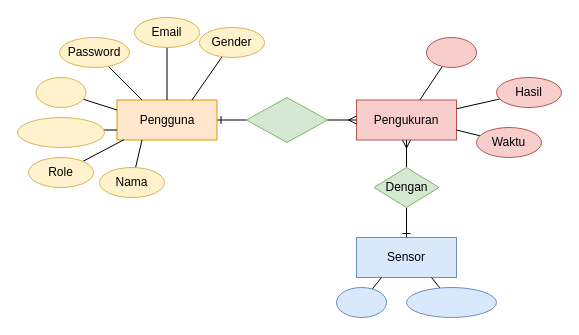
The diagram is 579 pixels wide and 335 high, and some of its shapes have lost their labels. The shapes that lost their labels are listed below. From the top down, each one's centre as x and y in pixels, then its label:
(x=451, y=52): idP
(x=60, y=92): id
(x=60, y=132): Tanggal_Lahir
(x=287, y=119): Mempunyai
(x=361, y=302): idS
(x=451, y=302): Nama_Sensor
